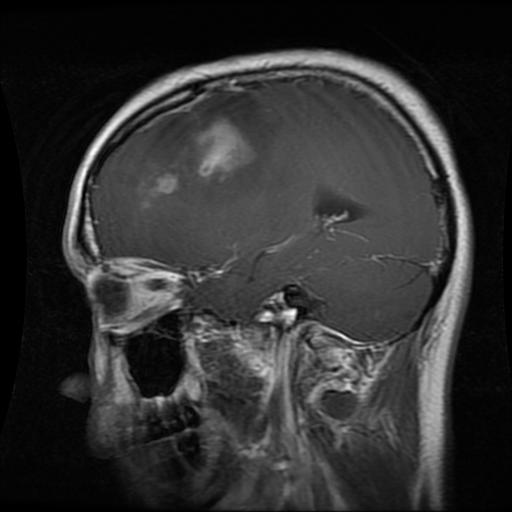Gliomia_tumour: (140, 91, 282, 209)
